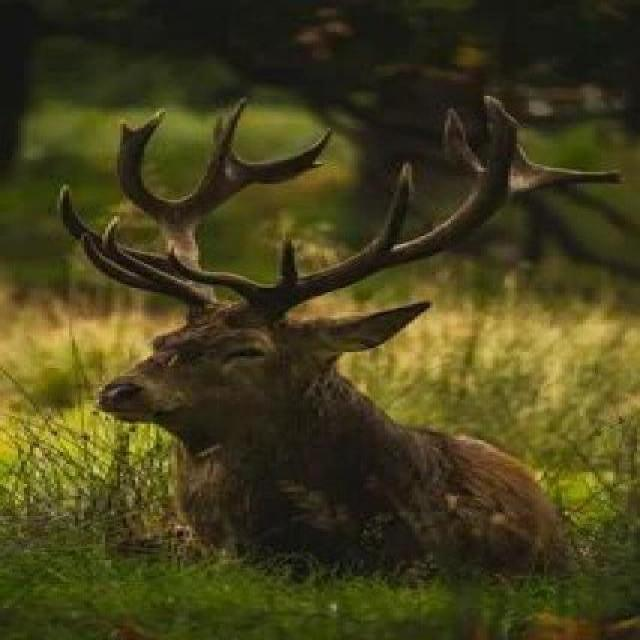deer: (31, 63, 598, 582)
